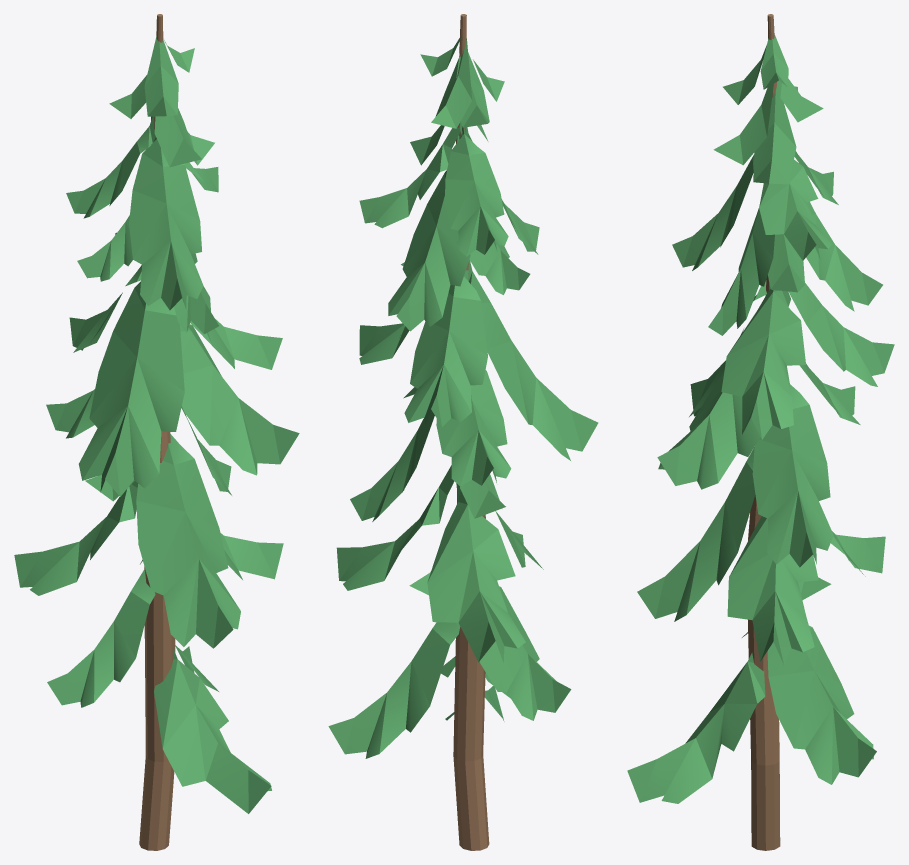
Rendered from Pine_model_B_(3)_instanced_l1_34168.glb.
The picture shows the model from 3 angles, left to right: view 1: azimuth 30°, elevation 25°; view 2: azimuth 150°, elevation 25°; view 3: azimuth 270°, elevation 25°; orthographic projection.
Parts seen in each view (by area): view 1: 02_Leaves, 01_Trunk; view 2: 02_Leaves, 01_Trunk; view 3: 02_Leaves, 01_Trunk.
Part boxes in pixels (bbox=[...]): 02_Leaves: bbox=[14, 36, 299, 813]; 01_Trunk: bbox=[139, 14, 175, 850]; 02_Leaves: bbox=[328, 36, 598, 758]; 01_Trunk: bbox=[453, 14, 489, 850]; 02_Leaves: bbox=[627, 35, 894, 803]; 01_Trunk: bbox=[748, 14, 780, 850].
Bounding box in the file's own units: 2.98 × 10 × 2.91.
